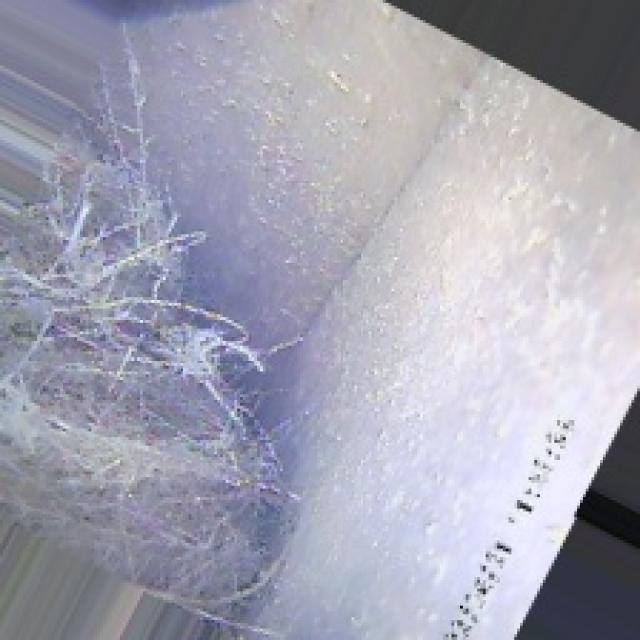Root_blockage: (14, 175, 260, 574)
